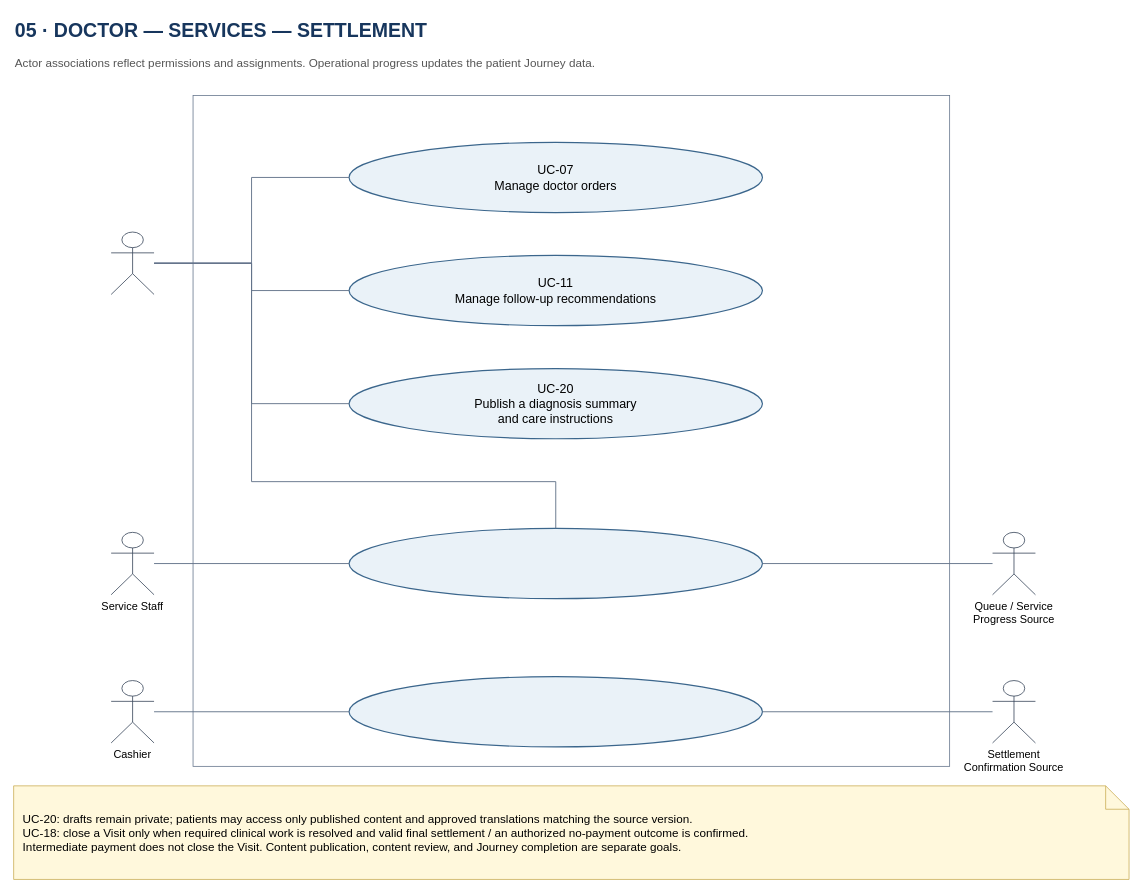
Image size: 1143x893. Some labels were removed from this diagram. Each missing label, with the box of its shape:
Doctor: (110, 231, 154, 294)
MULTILINGUAL HOSPITAL VISIT GUIDANCE SYSTEM: (192, 95, 950, 766)
UC-17 Record consultation and service progress: (348, 528, 763, 599)
UC-18 Record final settlement and close an eligible Visit: (348, 676, 763, 747)
